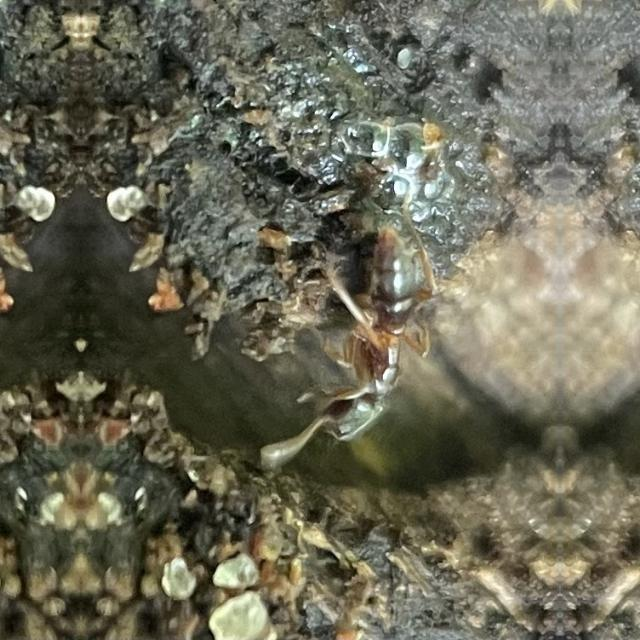Ponera: (243, 216, 492, 458)
